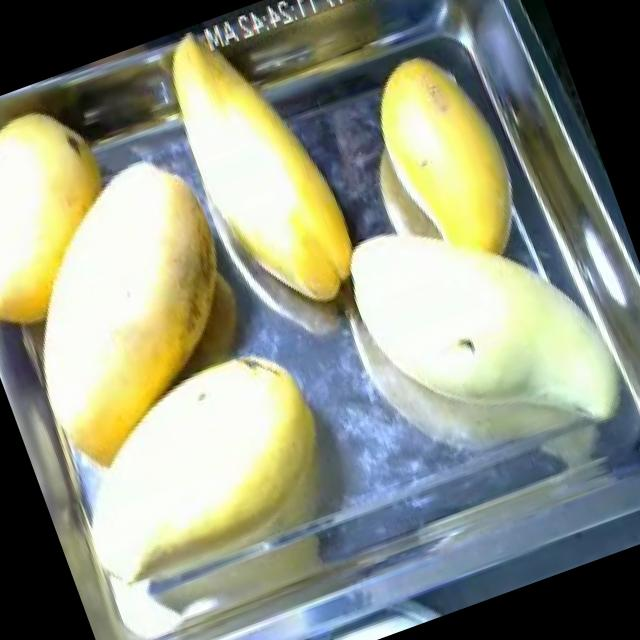fruit: (67, 371, 401, 640), (158, 0, 391, 339), (376, 197, 640, 492), (326, 24, 556, 304), (78, 138, 270, 400), (0, 72, 161, 355)
